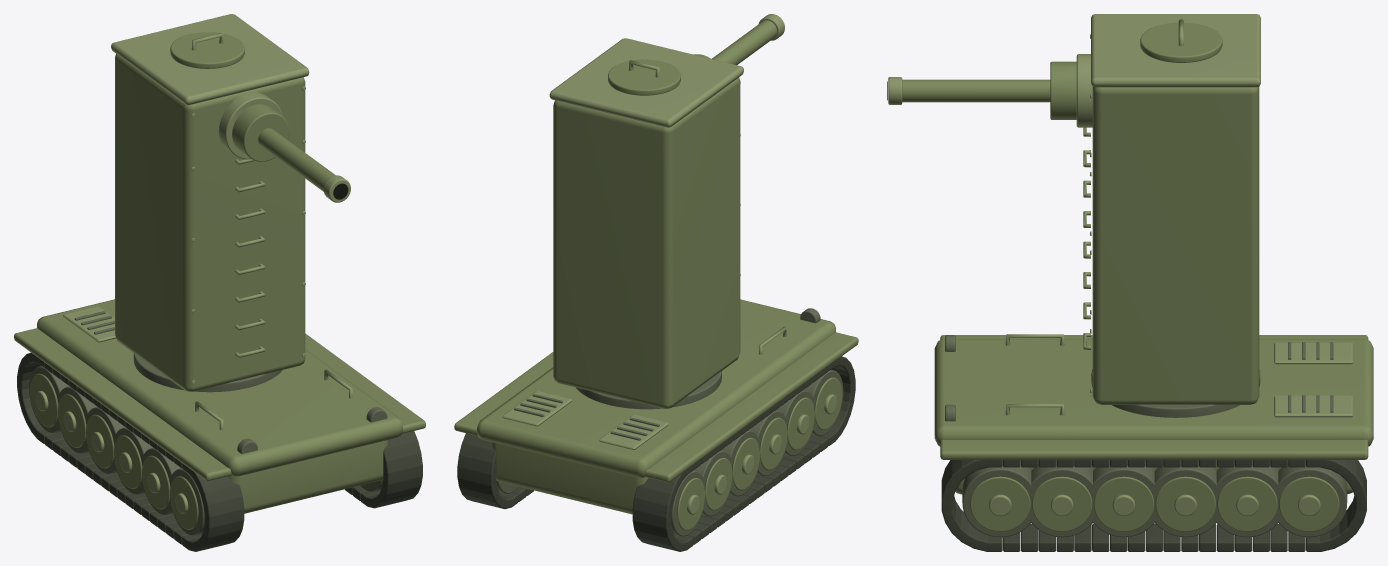
The model's file is tallTank.fbx.
3 views of the same model, side by side, from view 1: azimuth 30°, elevation 25°; view 2: azimuth 150°, elevation 25°; view 3: azimuth 270°, elevation 25° (orthographic). The views are drawn at different scales.
Visible parts, largest first — view 1: Tall rectangular turret, Broad upper hull deck, Turret top roof, Left track fender, Lower hull, Roof hatch, Right track fender, Gun mantlet, Long cannon barrel, Gun mounting disc, Turret rotation ring, Left wheel rim 0 (+18 smaller); view 2: Tall rectangular turret, Broad upper hull deck, Turret top roof, Left track fender, Lower hull, Roof hatch, Right track fender, Long cannon barrel, Turret rotation ring, Deck maintenance panel, Deck maintenance panel.001, Left wheel rim 1 (+17 smaller); view 3: Tall rectangular turret, Broad upper hull deck, Turret top roof, Right track fender, Long cannon barrel, Roof hatch, Right wheel rim 2, Right wheel rim 1, Right wheel rim 3, Right wheel rim 5, Right wheel rim 0, Right wheel rim 4 (+12 smaller).
Part boxes in pixels (left/top/right/bottom): Tall rectangular turret: left=115, top=54, right=305, bottom=391; Broad upper hull deck: left=37, top=299, right=402, bottom=476; Turret top roof: left=111, top=14, right=309, bottom=104; Left track fender: left=14, top=328, right=231, bottom=480; Lower hull: left=228, top=440, right=387, bottom=513; Roof hatch: left=170, top=32, right=244, bottom=68; Right track fender: left=305, top=333, right=425, bottom=433; Gun mantlet: left=232, top=104, right=289, bottom=161; Long cannon barrel: left=258, top=128, right=335, bottom=191; Gun mounting disc: left=219, top=92, right=282, bottom=159; Turret rotation ring: left=133, top=353, right=282, bottom=392; Left wheel rim 0: left=170, top=476, right=198, bottom=529; Tall rectangular turret: left=553, top=77, right=740, bottom=408; Broad upper hull deck: left=477, top=299, right=835, bottom=477; Turret top roof: left=549, top=38, right=743, bottom=127; Left track fender: left=644, top=332, right=858, bottom=482; Lower hull: left=491, top=442, right=648, bottom=514; Roof hatch: left=608, top=59, right=680, bottom=95; Right track fender: left=454, top=352, right=553, bottom=435; Long cannon barrel: left=712, top=20, right=777, bottom=64; Turret rotation ring: left=576, top=371, right=721, bottom=409; Deck maintenance panel: left=599, top=414, right=668, bottom=449; Deck maintenance panel.001: left=502, top=391, right=571, bottom=426; Left wheel rim 1: left=787, top=397, right=814, bottom=450; Tall rectangular turret: left=1092, top=86, right=1259, bottom=404; Broad upper hull deck: left=934, top=339, right=1373, bottom=446; Turret top roof: left=1091, top=14, right=1260, bottom=87; Right track fender: left=940, top=439, right=1368, bottom=459; Long cannon barrel: left=902, top=79, right=1050, bottom=102; Roof hatch: left=1140, top=22, right=1222, bottom=62; Right wheel rim 2: left=1093, top=476, right=1154, bottom=531; Right wheel rim 1: left=1032, top=476, right=1092, bottom=531; Right wheel rim 3: left=1155, top=476, right=1215, bottom=531; Right wheel rim 5: left=1279, top=476, right=1339, bottom=531; Right wheel rim 0: left=970, top=476, right=1030, bottom=531; Right wheel rim 4: left=1217, top=476, right=1277, bottom=531.
Size of the model in its own units: 259 by 476 by 449.
